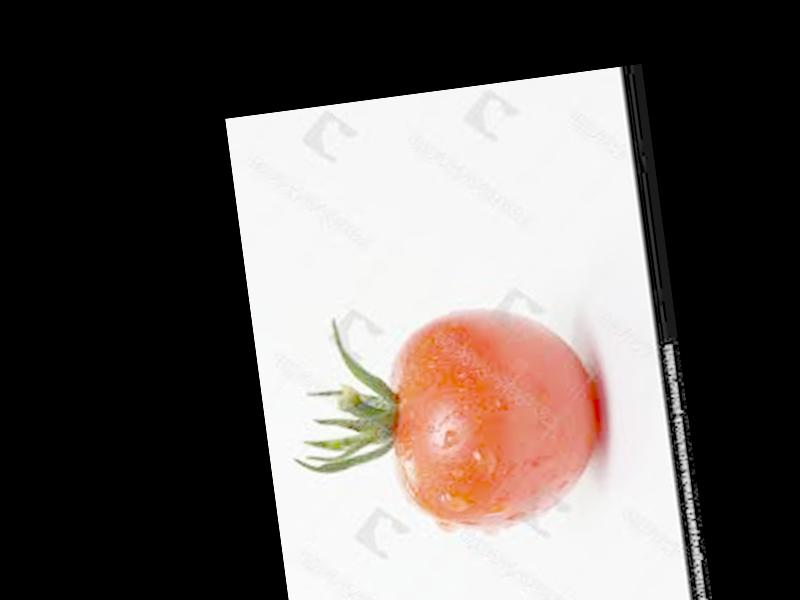Tomato: (378, 294, 612, 535)
